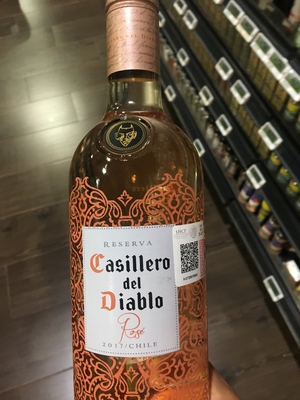casillero del diablo rose: (61, 29, 206, 400)
